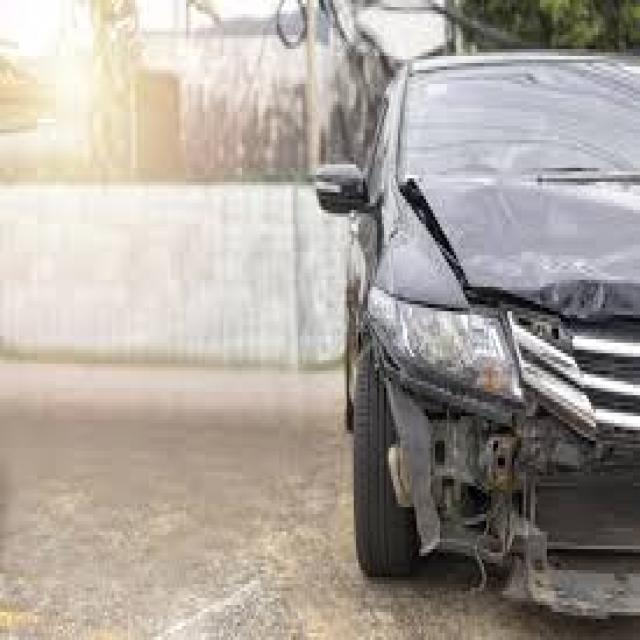moderate: (335, 175, 640, 636)
